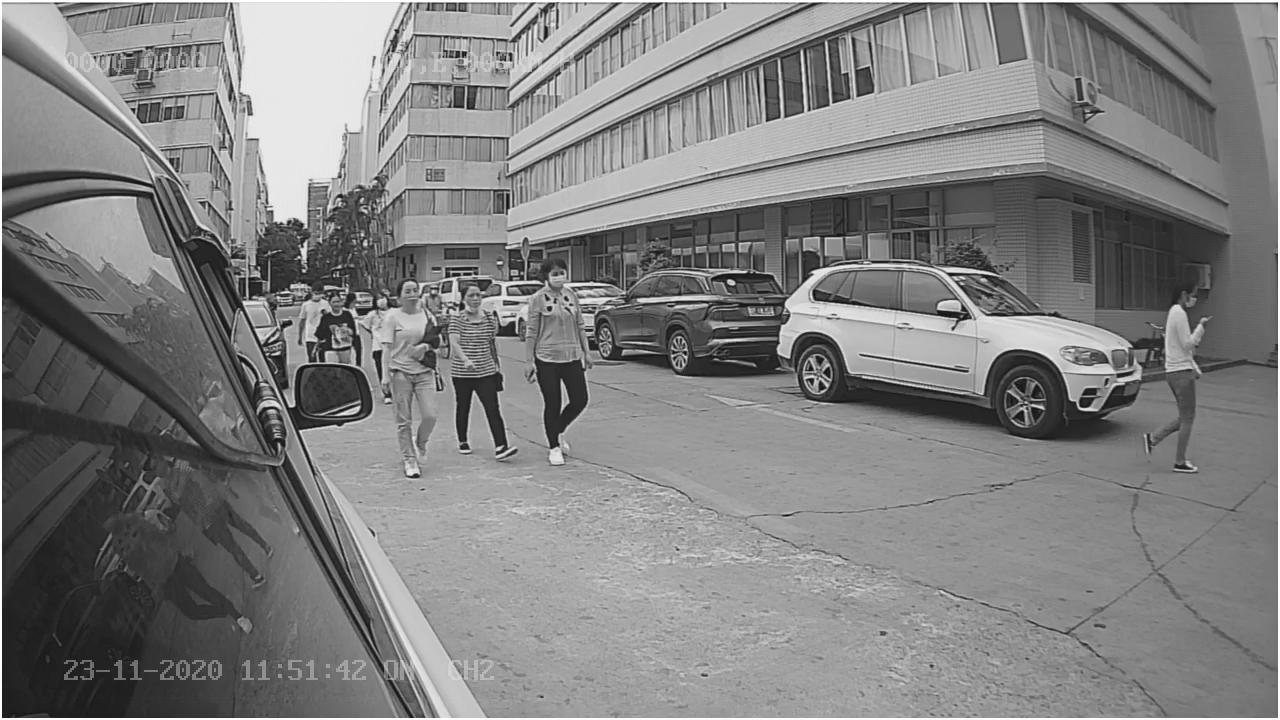person: (525, 253, 606, 463), (376, 270, 452, 480), (1136, 272, 1212, 478)
